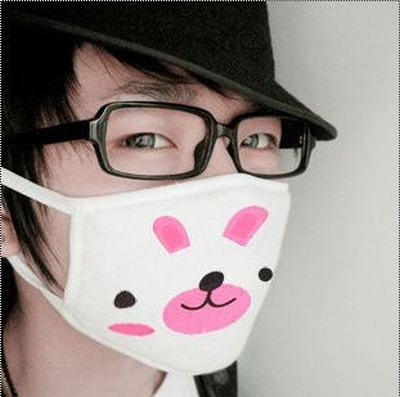face_mask: (35, 24, 292, 370)
